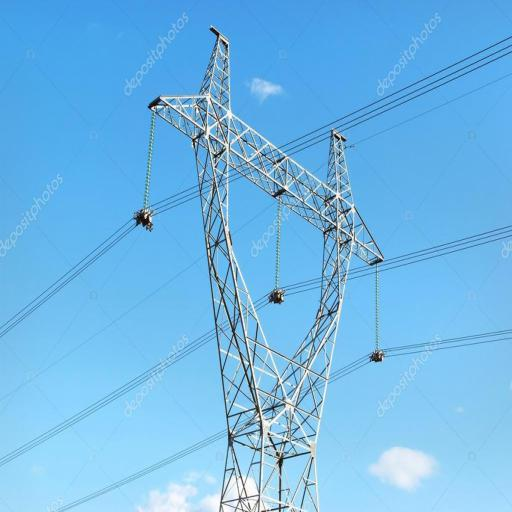wt_5: (143, 22, 386, 512)
